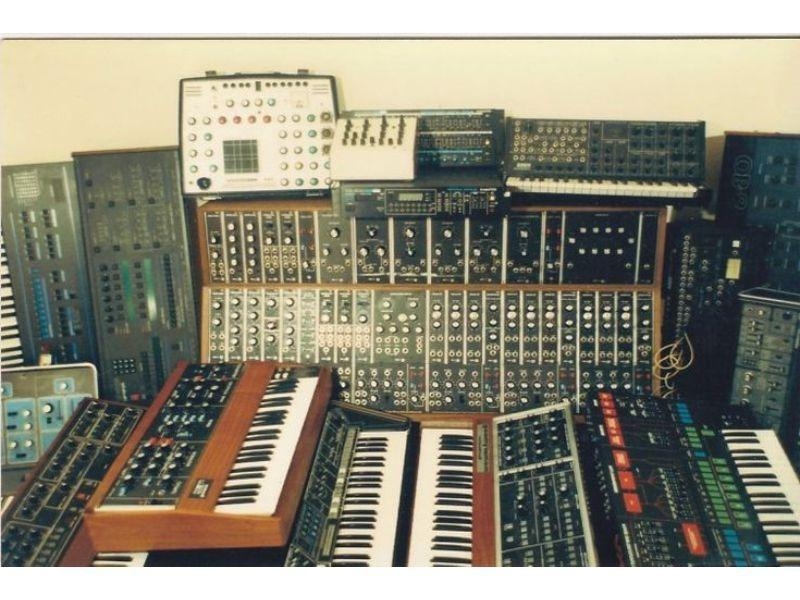synthesizer: (597, 387, 780, 554), (130, 350, 293, 529), (410, 404, 572, 554), (504, 102, 715, 208), (312, 397, 393, 557)
